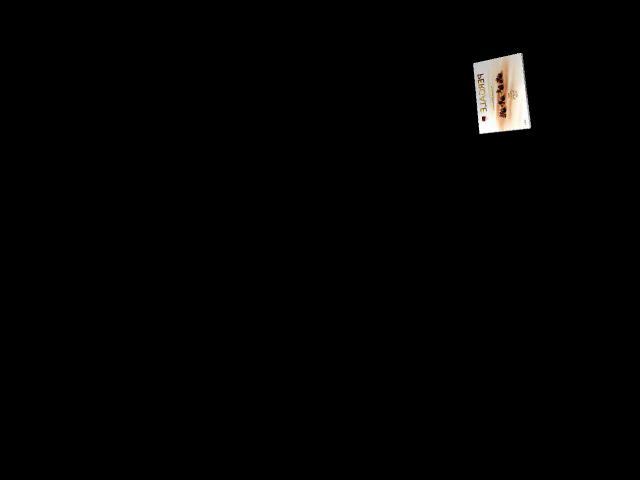chocolate: (468, 52, 540, 135)
